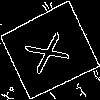X: (24, 25, 79, 76)
